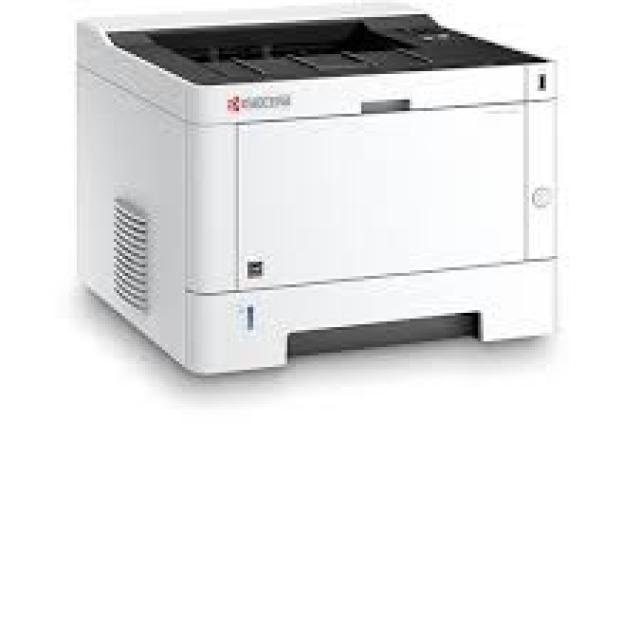printer: (31, 2, 626, 395)
